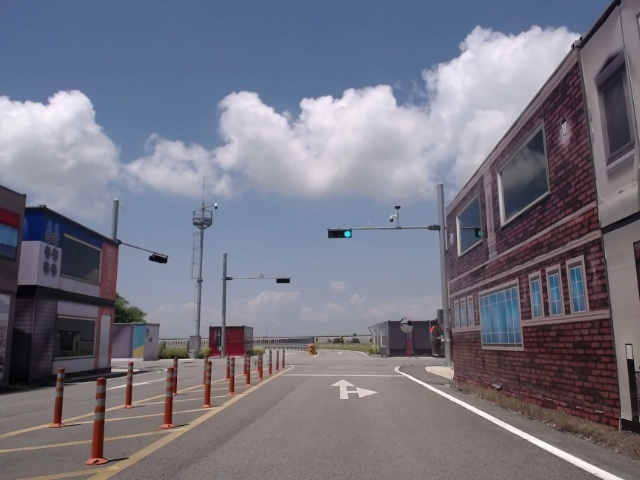green_3: (329, 229, 352, 238)
